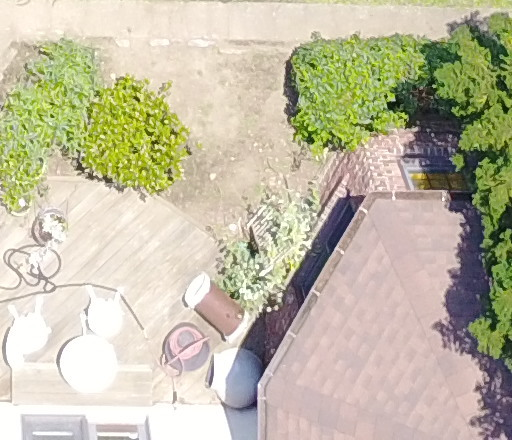container: (176, 267, 262, 346), (165, 322, 212, 374)
flower pot: (26, 200, 83, 253)
